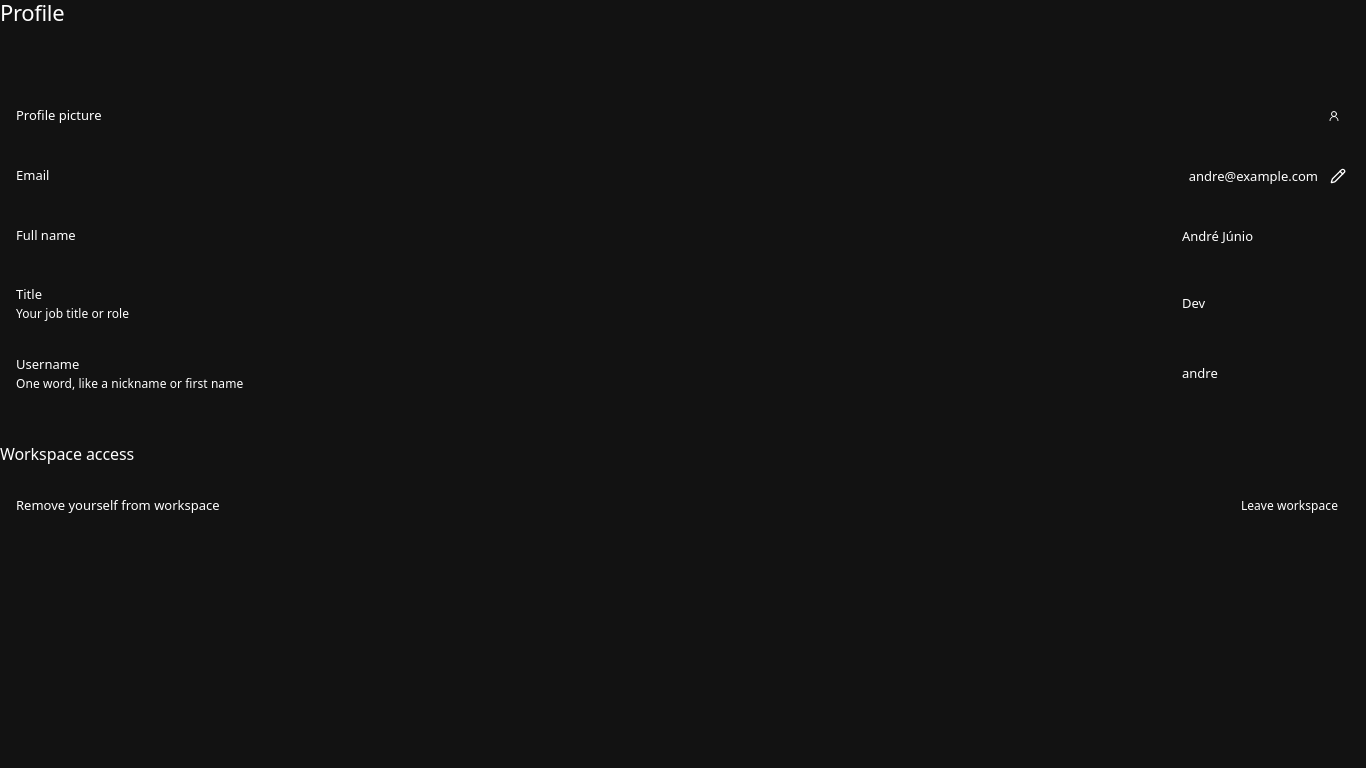
Test: ProfilePage › Leave workspace confirma, sai e vai para /projects
Click the button "Leave workspace": x=1289, y=506 [1229,492,1350,520]
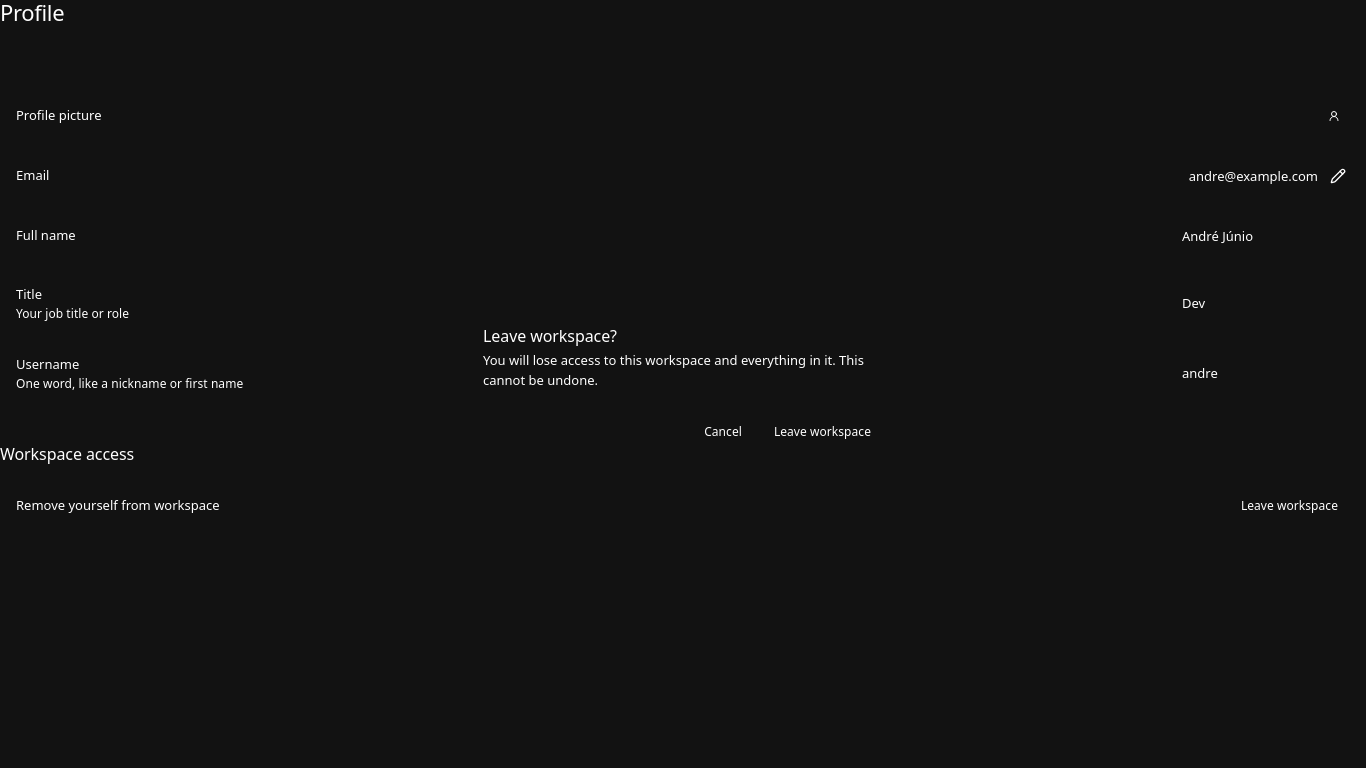
Click the button "Leave workspace": x=822, y=432 [762,418,883,446]
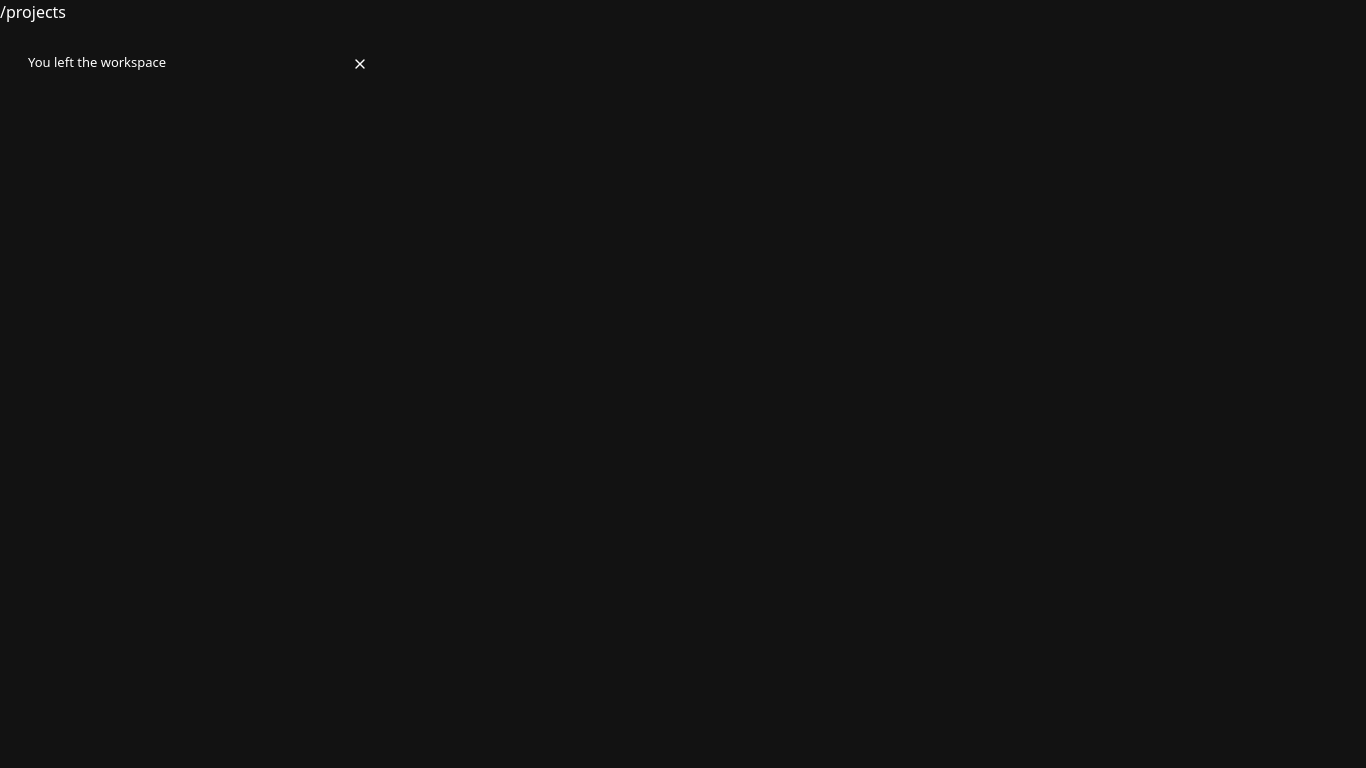
Check: the text named "Current URL" reads "/projects", box [0,1,66,23]
